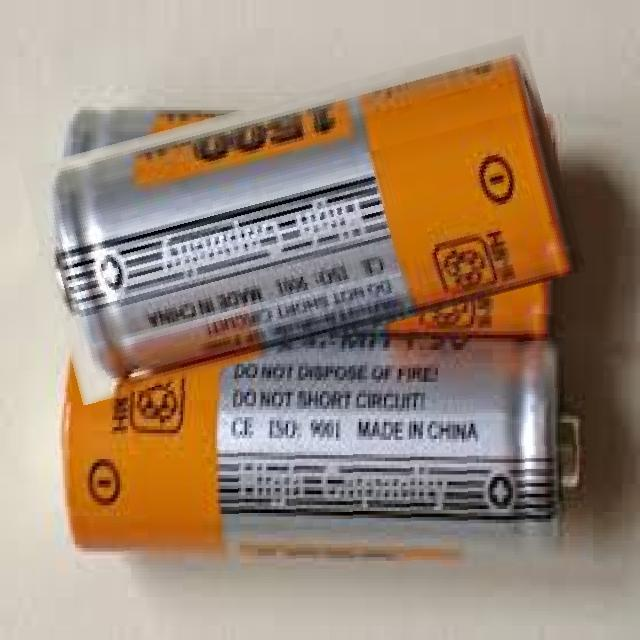Battery: (41, 55, 581, 374), (53, 329, 599, 563)
